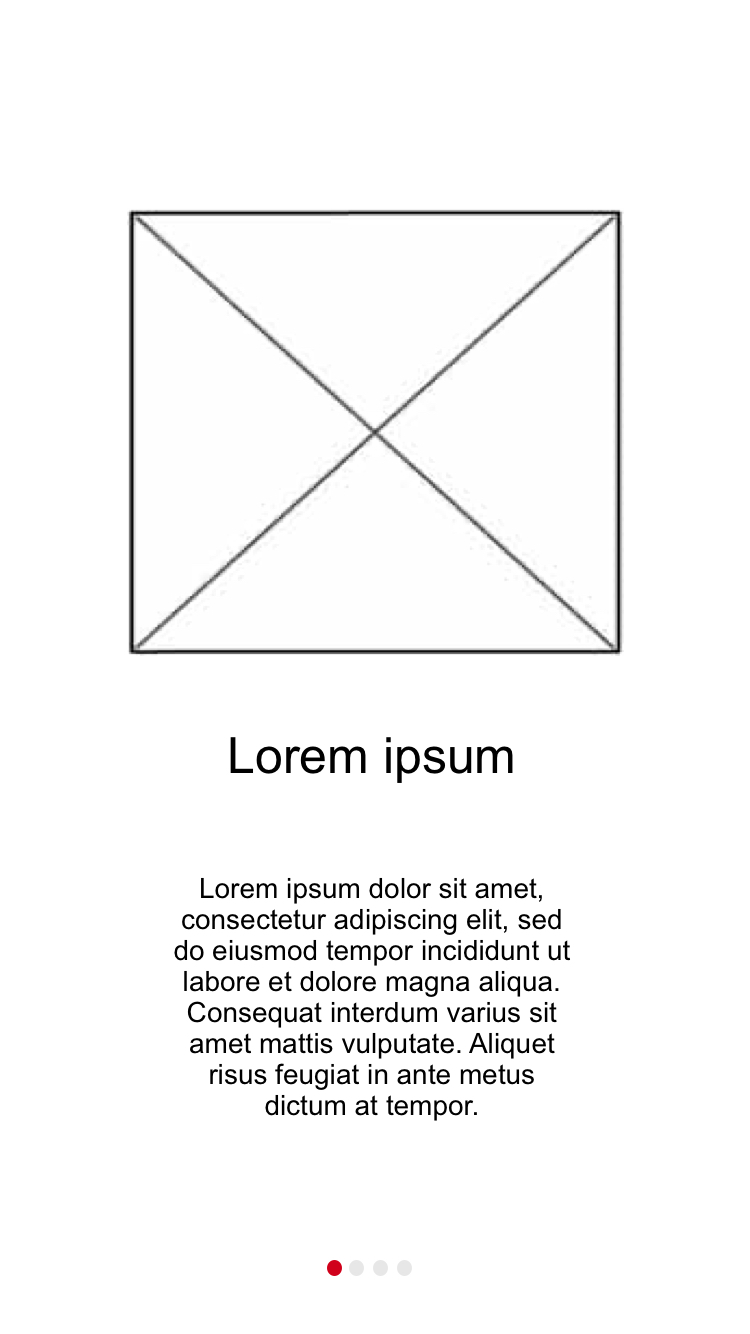Image: (128, 209, 624, 654)
PageIndicator: (326, 1259, 414, 1278)
Text: (173, 877, 571, 1122), (229, 735, 514, 784)
